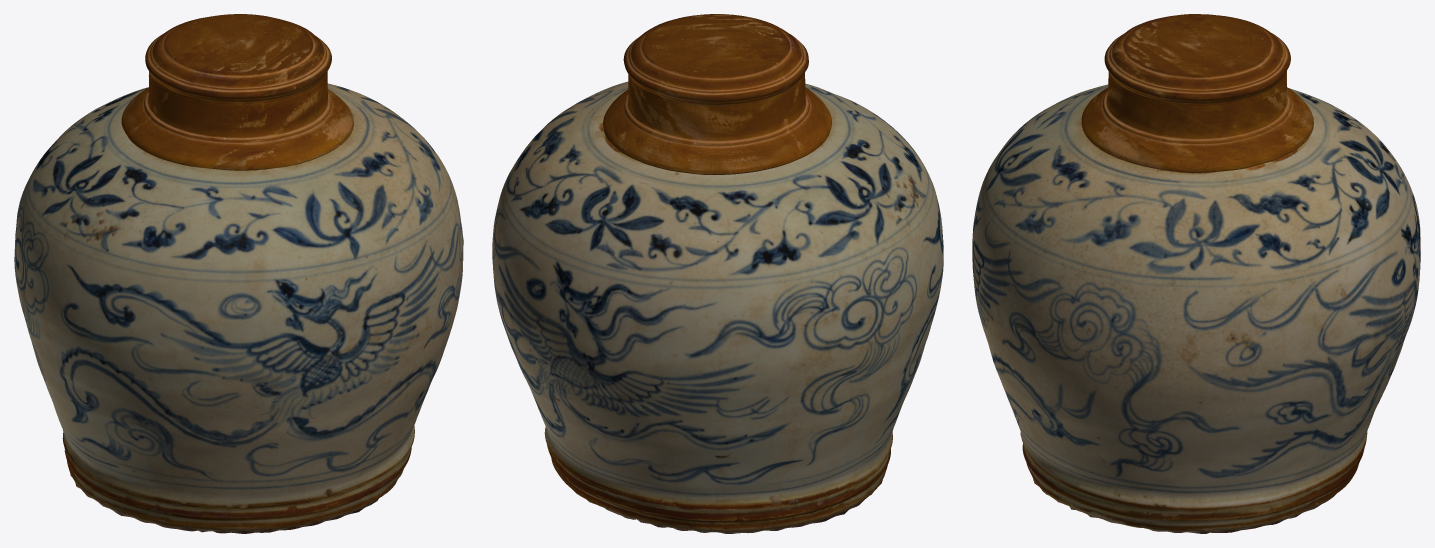
File: CoveredJarBlueWhite.fbx
3 renders of one model, left to right at view 1: azimuth 30°, elevation 25°; view 2: azimuth 150°, elevation 25°; view 3: azimuth 270°, elevation 25°, orthographic.
Parts seen in each view (by area): view 1: CoveredJarBlueWhite; view 2: CoveredJarBlueWhite; view 3: CoveredJarBlueWhite.
Part boxes in pixels (x1,y1,x2,y2): CoveredJarBlueWhite: (14, 14, 463, 533); CoveredJarBlueWhite: (492, 14, 943, 533); CoveredJarBlueWhite: (972, 14, 1420, 533).
Bounding box in the file's own units: 0.2222 × 0.23 × 0.2204.
